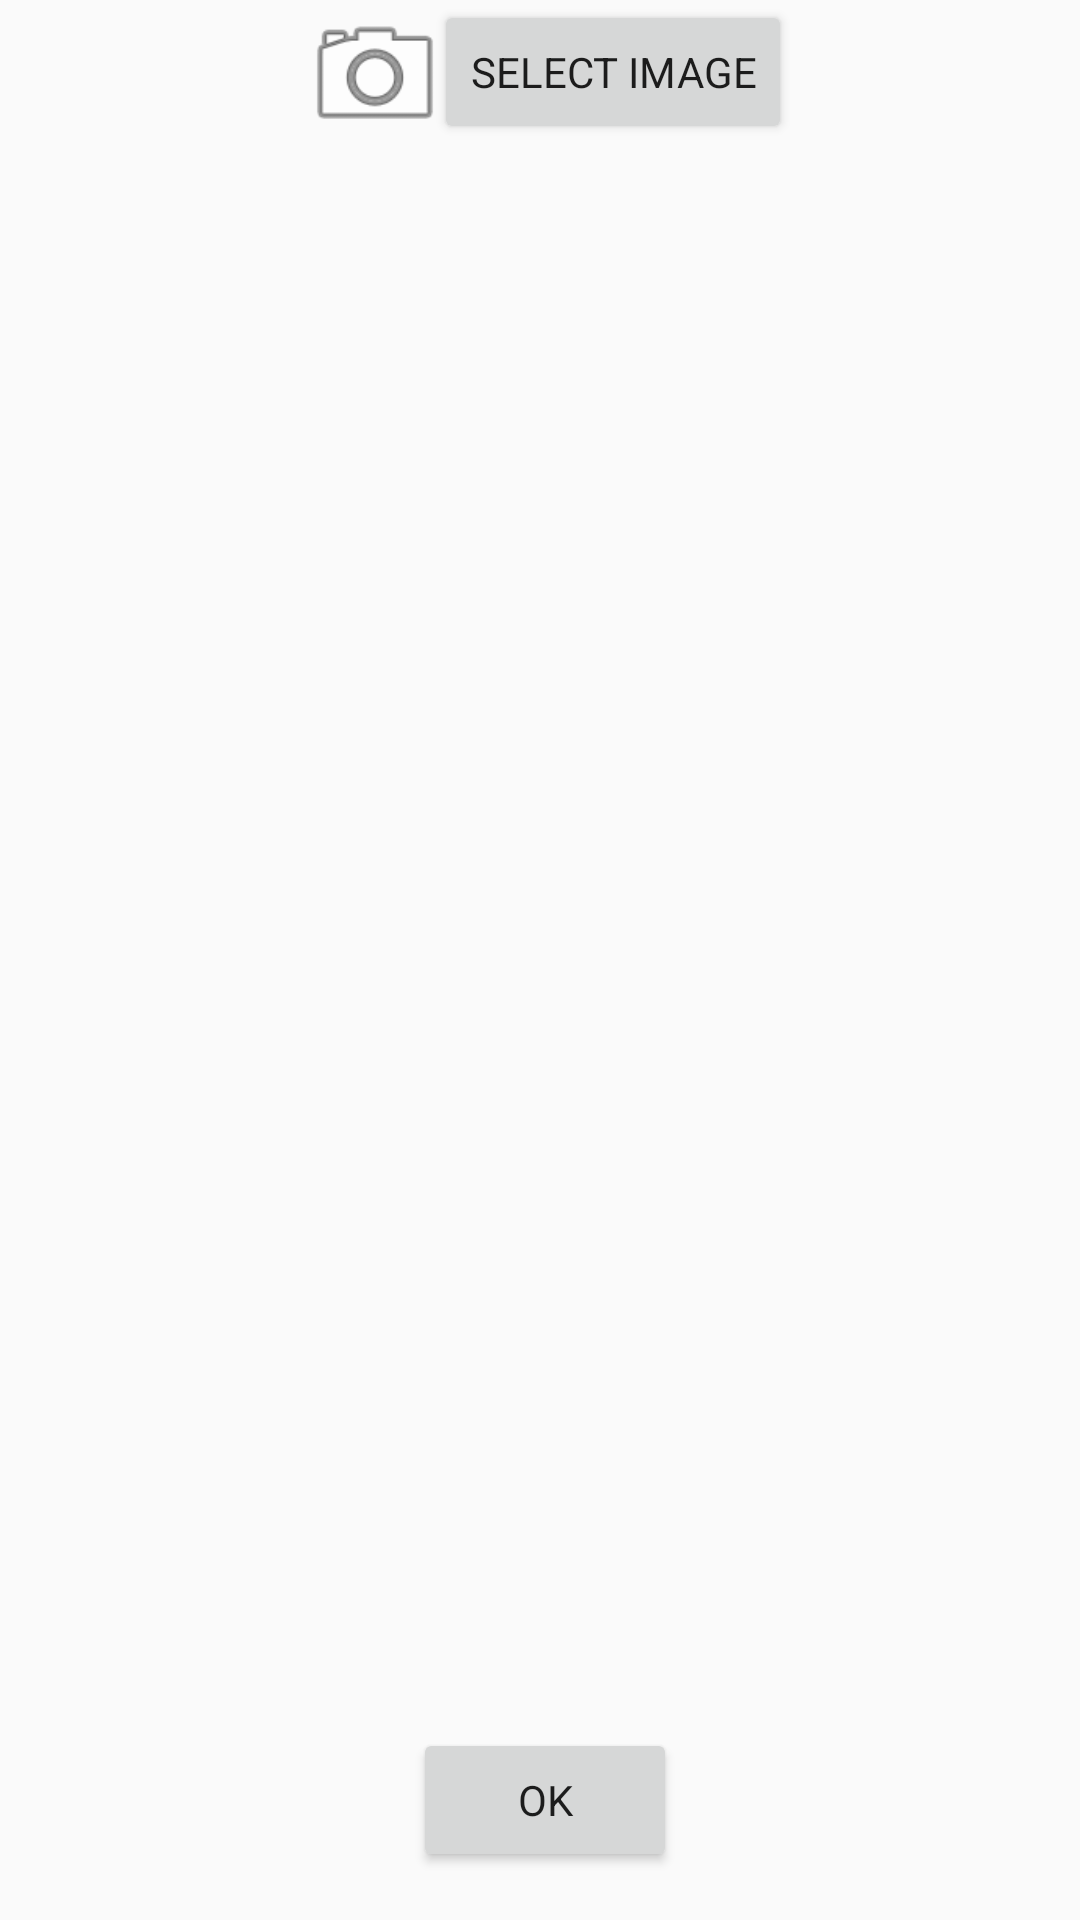

Icons on this 1080px×1920px Android screen, each with the point to tap as point (x, y):
camera: point (375, 72)
